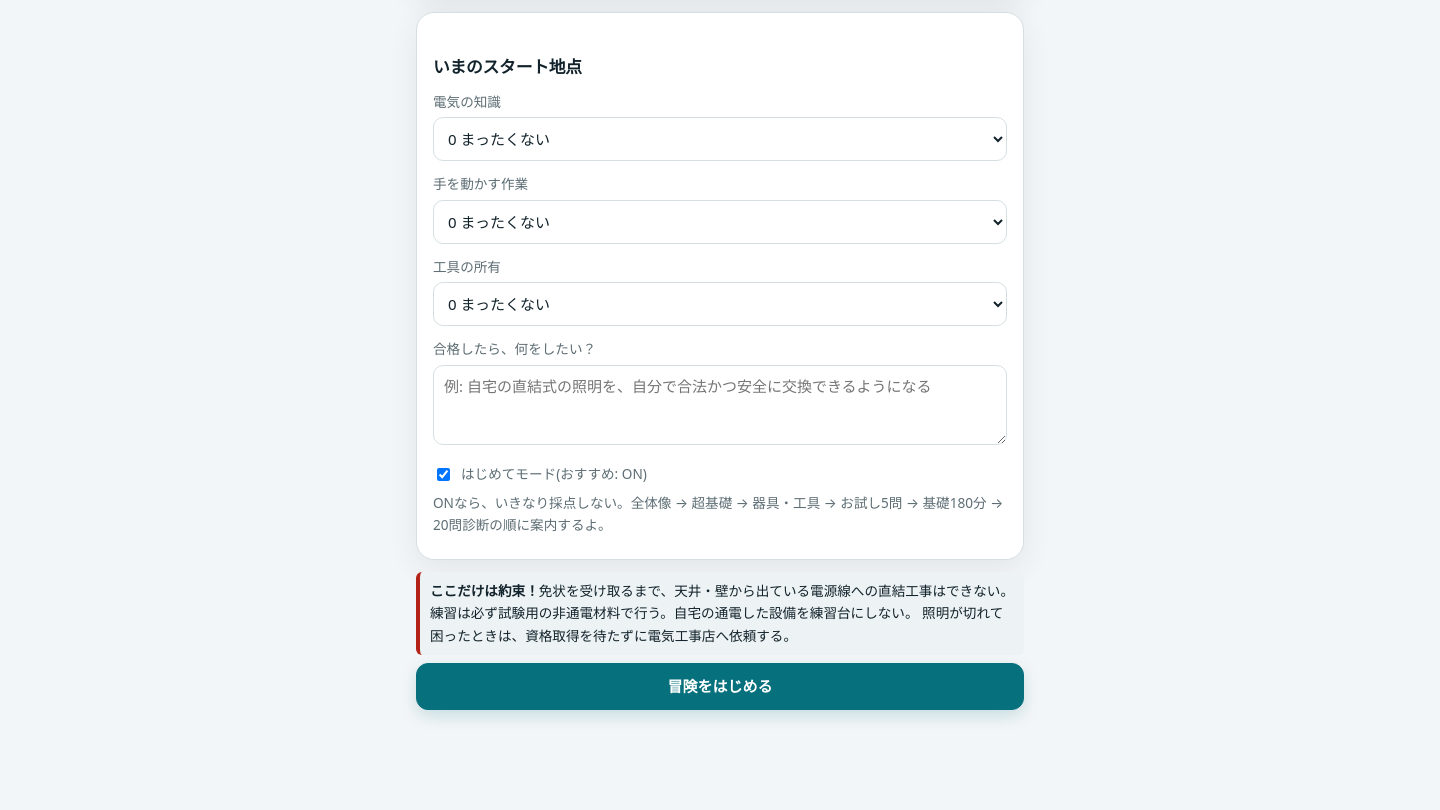
Scenario: Sprint 1 の通し動作 › 初回は設定ウィザードが出て、いきなり20問診断を出さない
(page scrolled)
Expected: the text "免状を受け取るまで" is shown, left=430, top=581, right=1014, bottom=644
What coordinates should you click on to do the following:
click the button "冒険をはじめる"
I would click on:
 (720, 686)
Its box is left=416, top=663, right=1024, bottom=710.
(page scrolled)
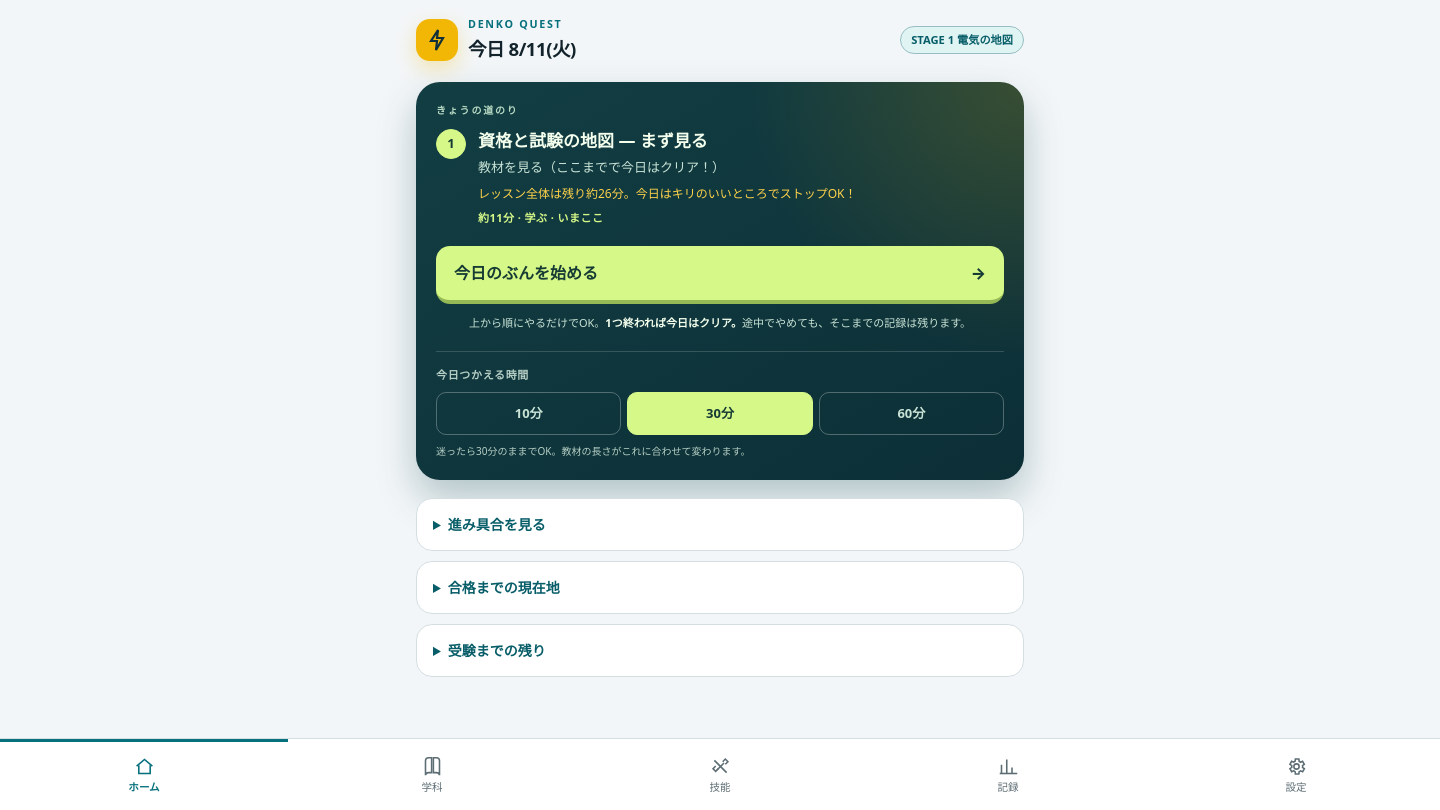
Now the button "ホーム" is shown, box left=0, top=739, right=288, bottom=809
Now the button "記録" is shown, box left=864, top=739, right=1152, bottom=809
Now the button "設定" is shown, box left=1152, top=739, right=1439, bottom=809
